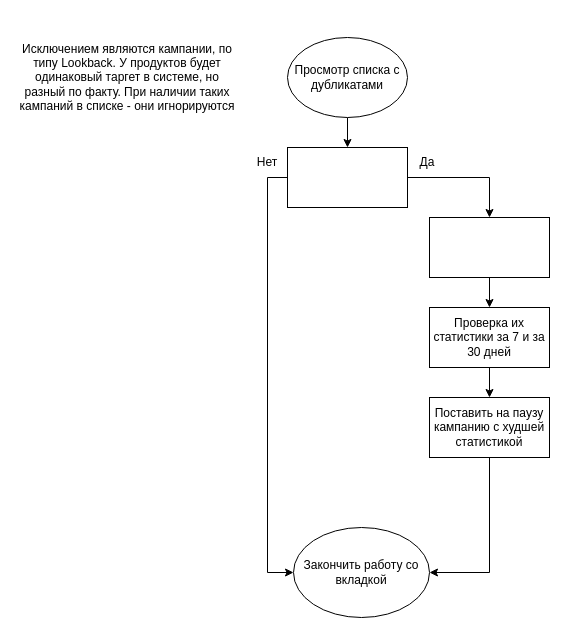
Some shapes in this 567 by 635 pixel diagram are drawn without their labels. Each missing label, with the centre of its shape:
Есть мои кампании в списке?: point 347,177
Поиск этих кампаний в кабинете: point 489,247
